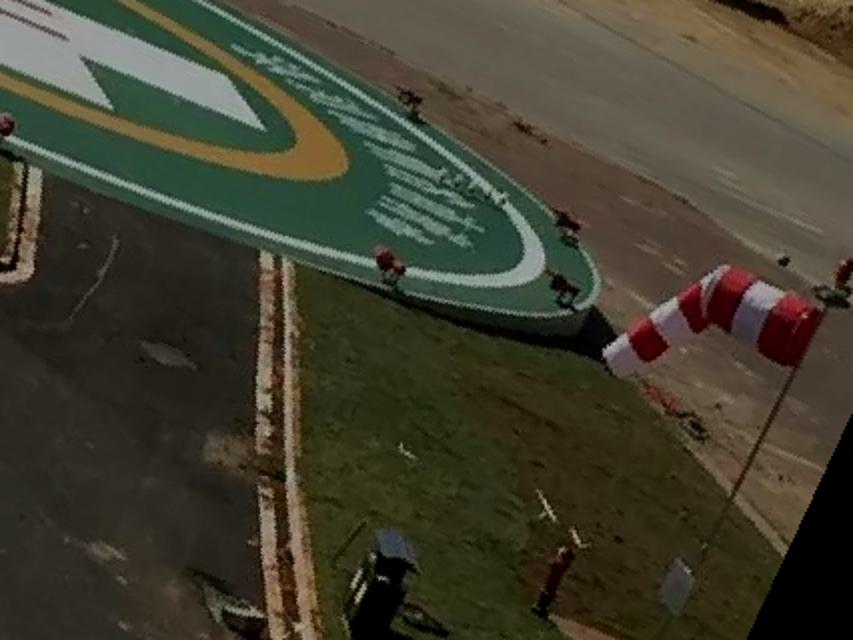Apron: (1, 1, 365, 204)
